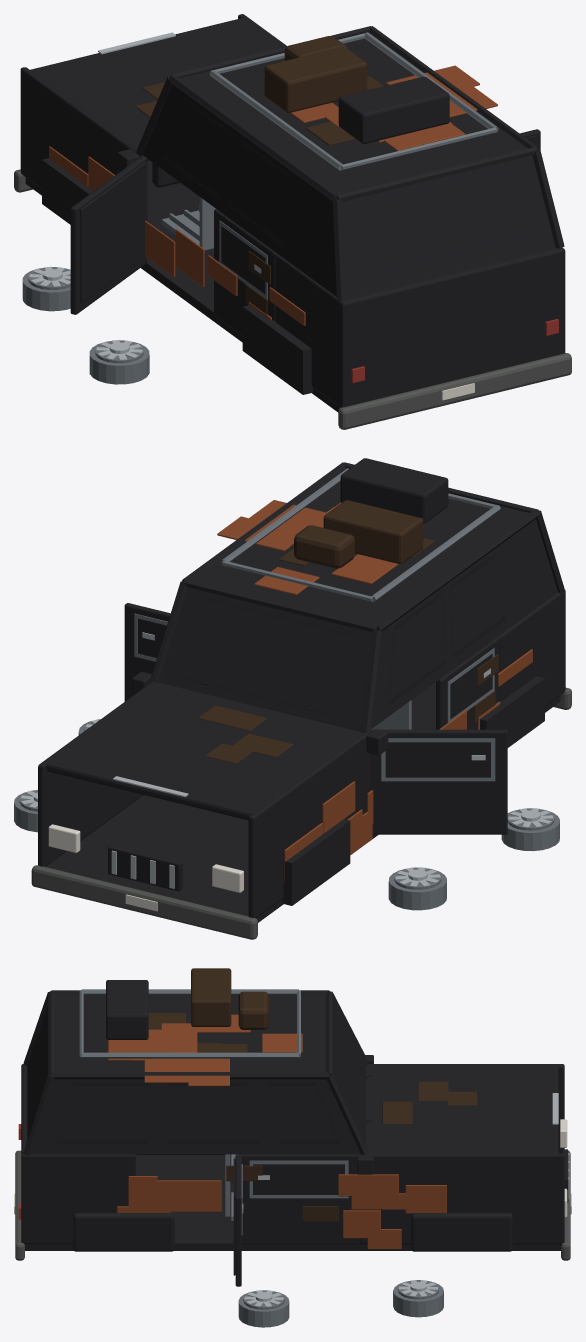
Rendered from car_jam_suv_burnt.glb.
3 renders of one model, top to bottom at view 1: azimuth 30°, elevation 25°; view 2: azimuth 150°, elevation 25°; view 3: azimuth 270°, elevation 25°, orthographic. The views are drawn at different scales.
Parts seen in each view (by area): view 1: car_jam_suv_burnt; view 2: car_jam_suv_burnt; view 3: car_jam_suv_burnt.
Part boxes in pixels (x1=…): car_jam_suv_burnt: x1=14, y1=14, x2=571, y2=429; car_jam_suv_burnt: x1=14, y1=458, x2=571, y2=939; car_jam_suv_burnt: x1=14, y1=968, x2=571, y2=1327.
Size of what is drawn, in the model's own units: 3.82 by 2.13 by 4.62.
Materials: 2 (2 with a texture image).
